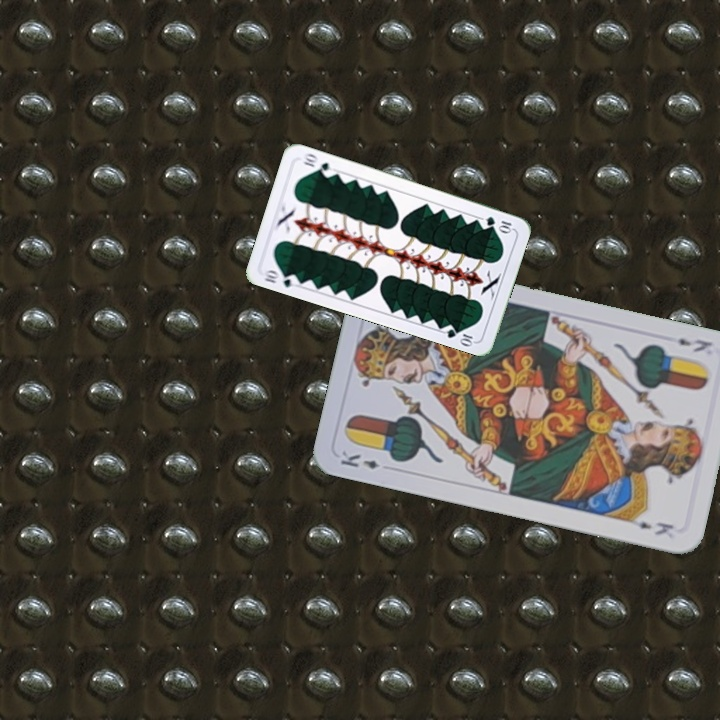EK: (336, 447, 381, 472), (674, 334, 715, 355)
G10: (260, 266, 301, 290), (481, 212, 515, 235)
